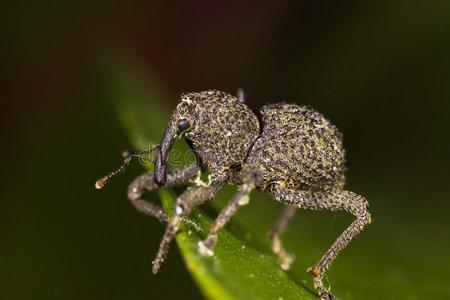Curculionidae: (94, 89, 374, 300)
